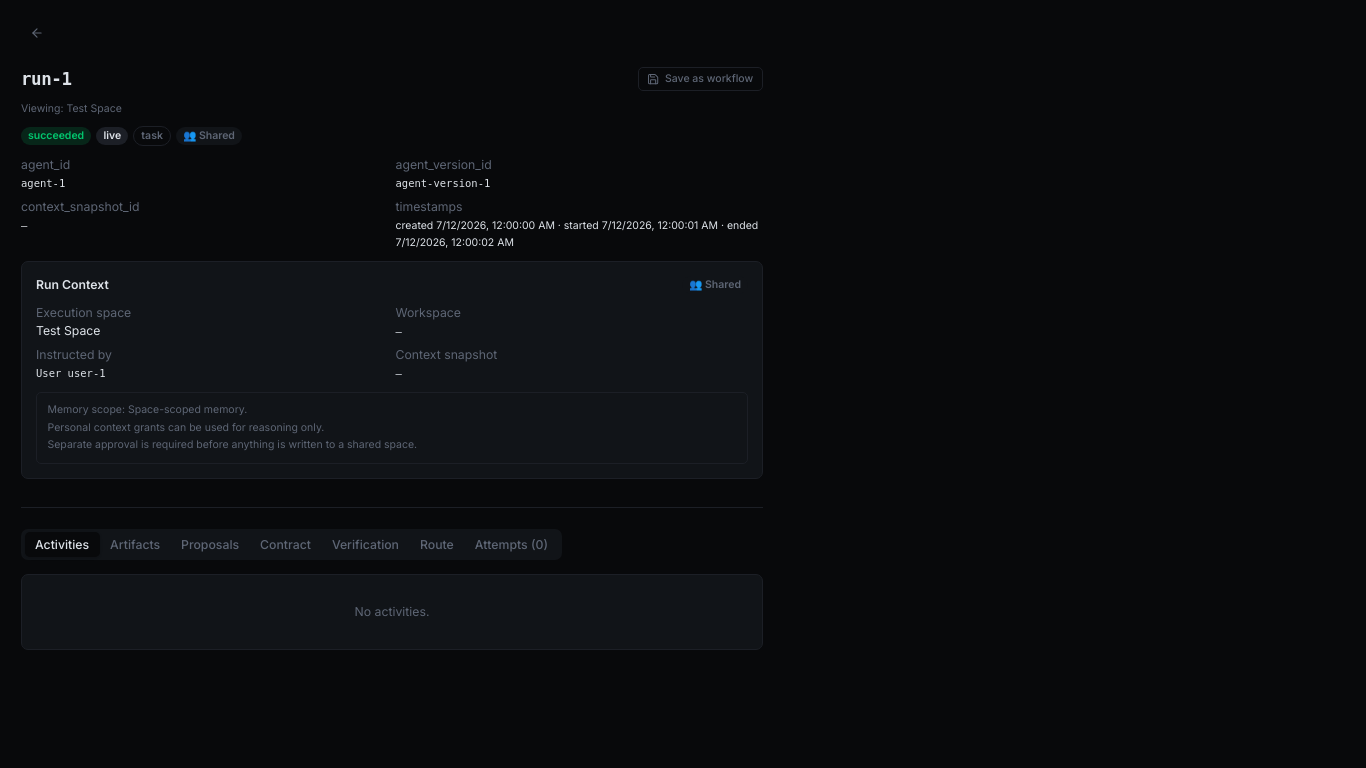
RunDetailPage route decision panel › clears the previous preview when a subsequent preview fails
The width and height of the screenshot is (1366, 768).
Click the button "Save as workflow".
click(700, 79)  # box [638, 66, 763, 91]
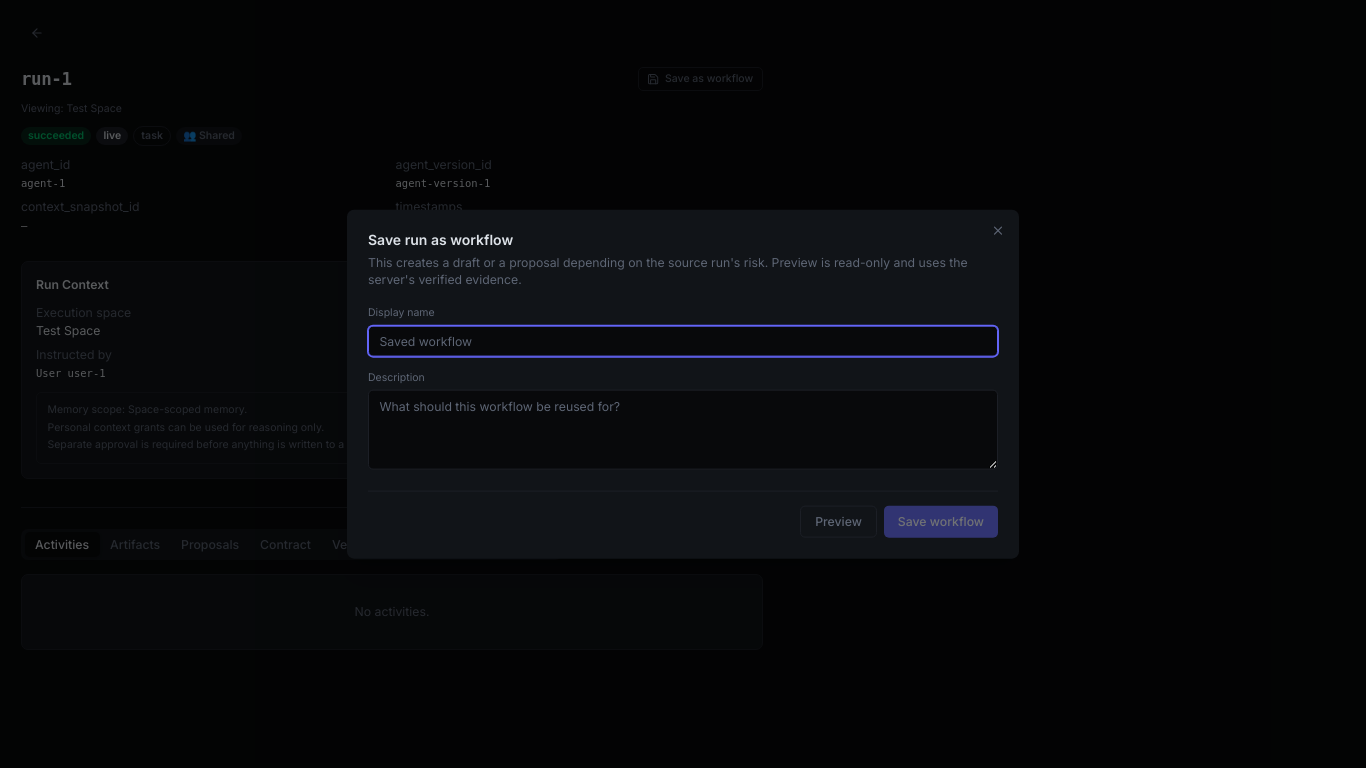
Click the button "Preview".
click(838, 522)  # box [800, 506, 877, 537]
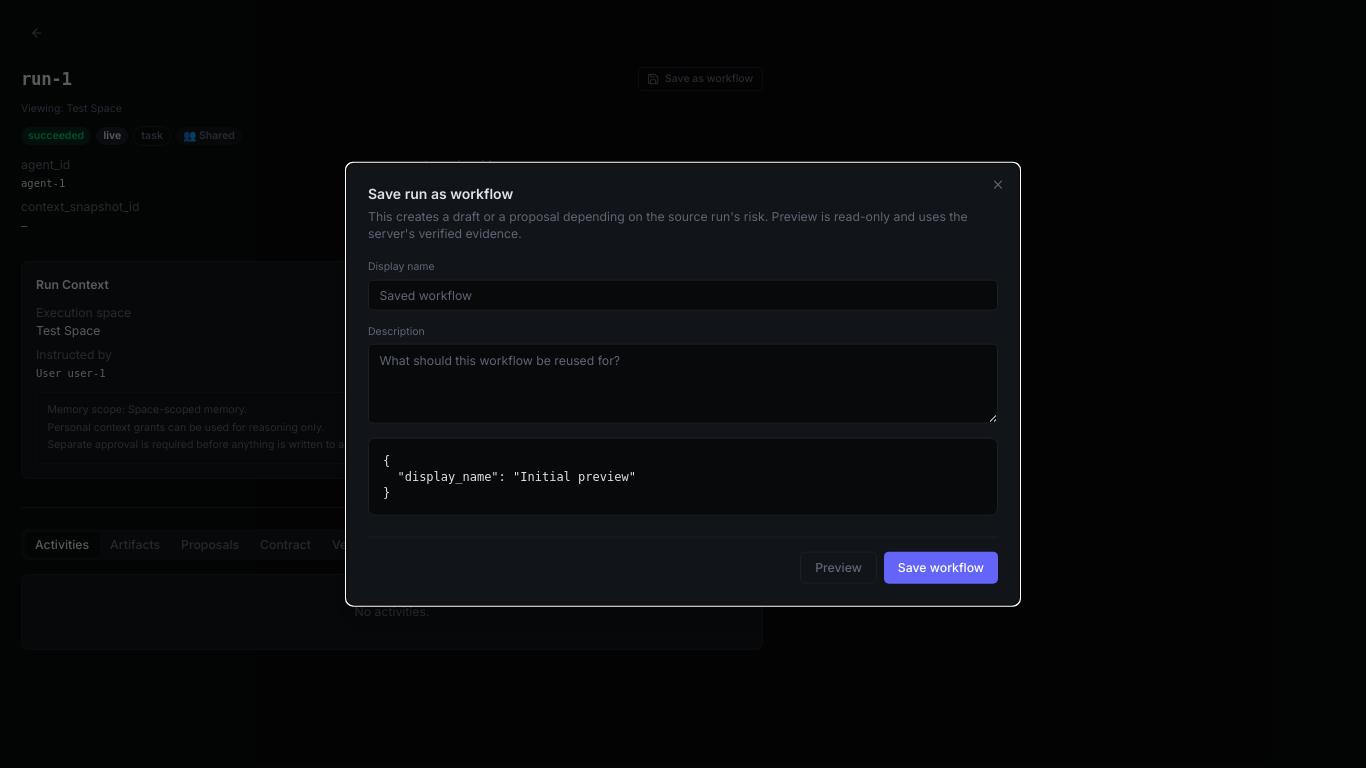
Expected: the text "{ \"display_name\": \"Initial preview\" }" is shown, [368, 438, 998, 516]
Click the button "Preview".
click(838, 568)  # box [800, 552, 877, 583]
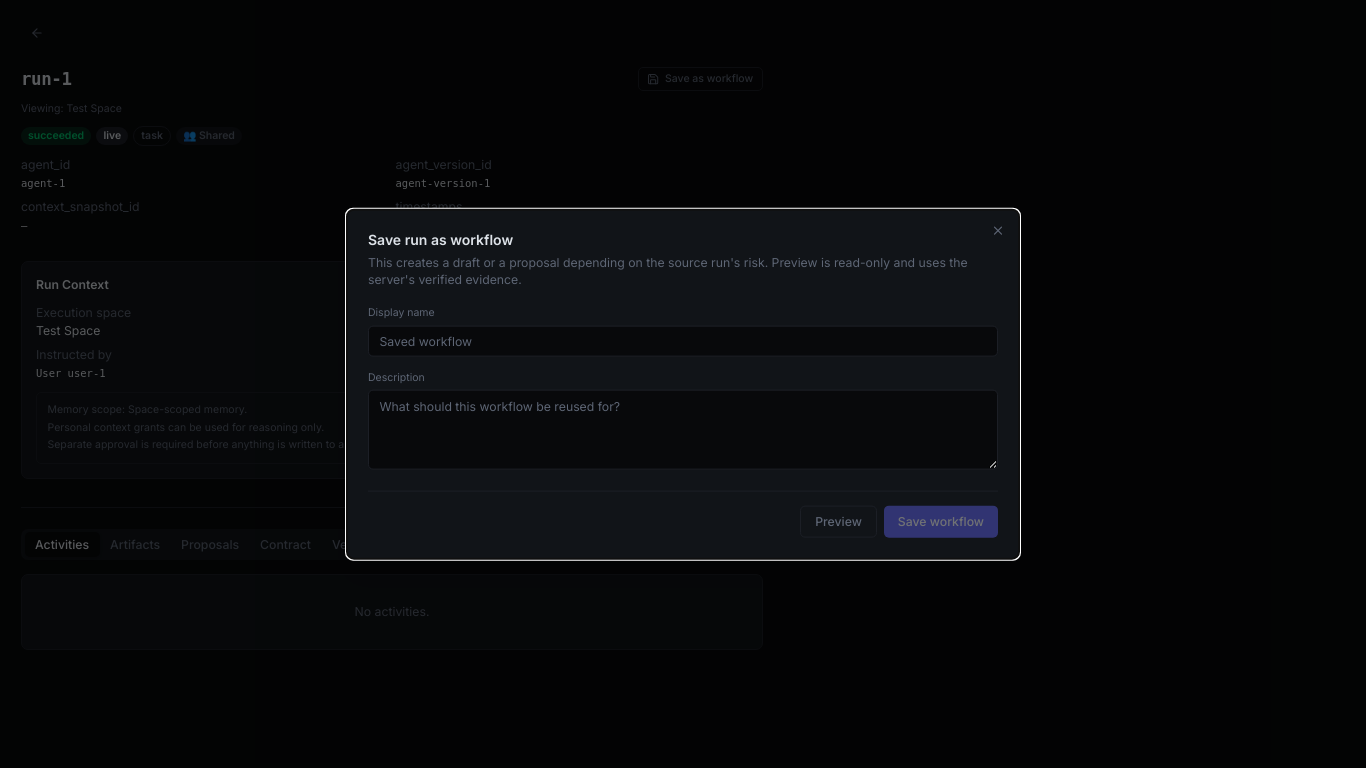
Expected: the text "Initial preview" is gone
Expected: the button "Save workflow" is disabled, [884, 506, 998, 537]
